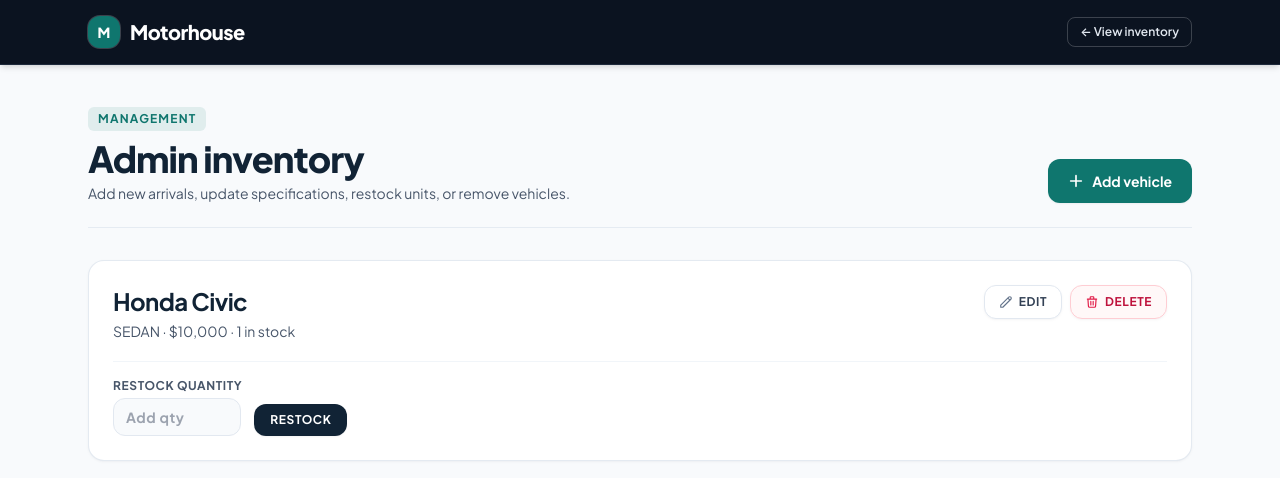
Test: restocks a vehicle through the API
The width and height of the screenshot is (1280, 478).
Type "2" into the number field labelled "Restock quantity" at (177, 417), box [113,398,241,436]
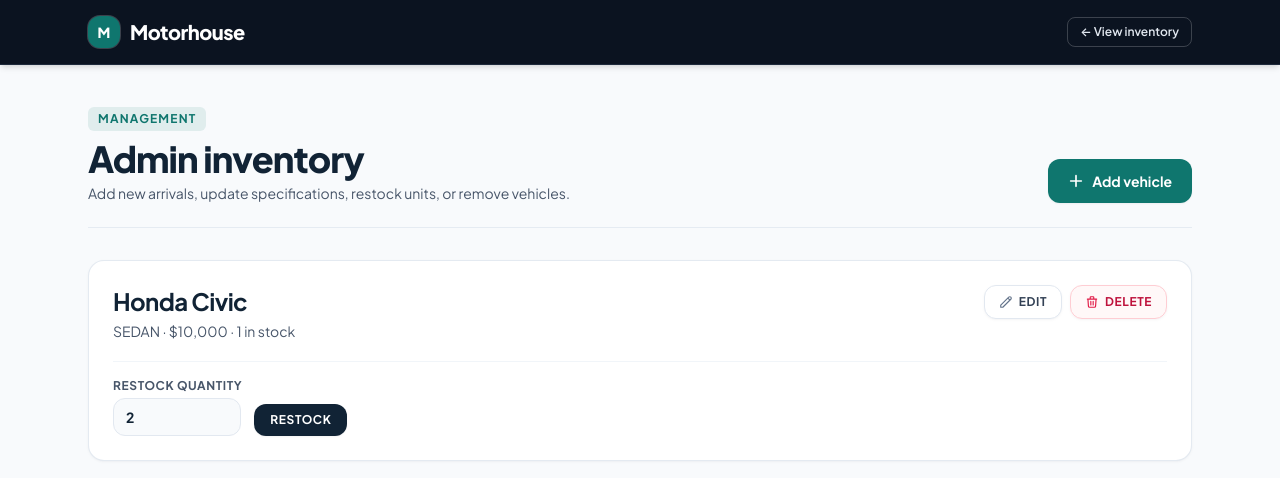
Click the button "Restock" at (301, 420), box [254,404,348,436]
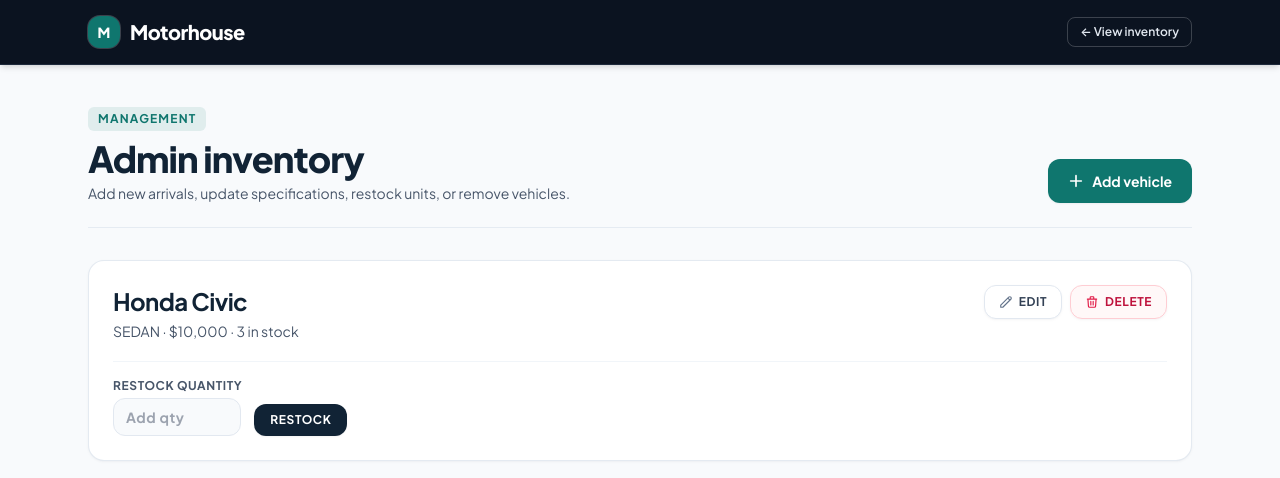
Now the text "SEDAN · $10,000 · 3 in stock" is shown, box [113,321,299,341]
